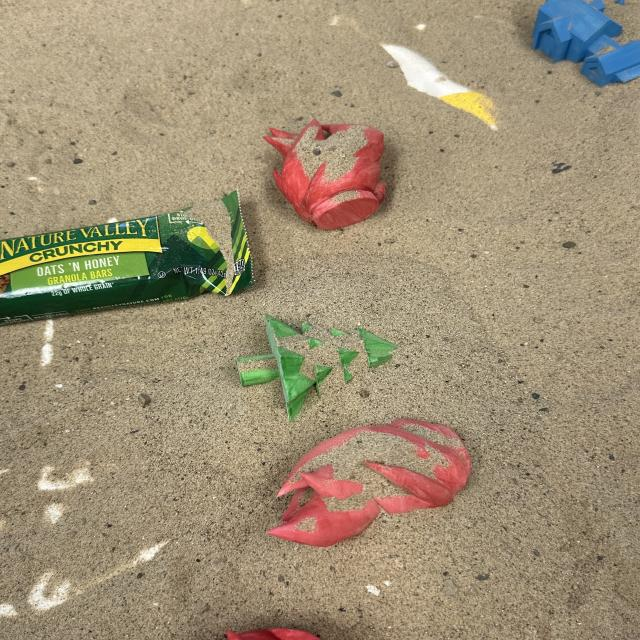fire: (266, 418, 472, 548), (261, 118, 388, 231)
house: (529, 0, 640, 88)
tree: (235, 313, 398, 416)
